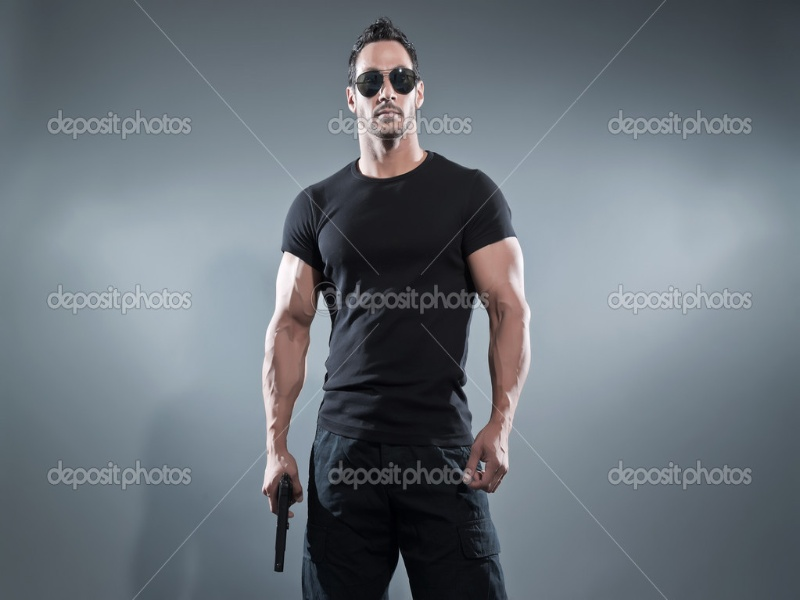gun: (255, 461, 309, 579)
